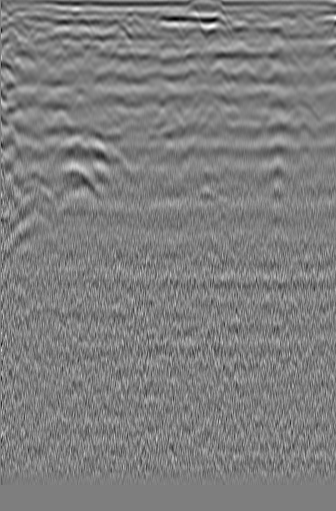상수: (283, 16, 327, 52)
오수: (1, 28, 35, 65)
우수: (149, 34, 187, 71)
